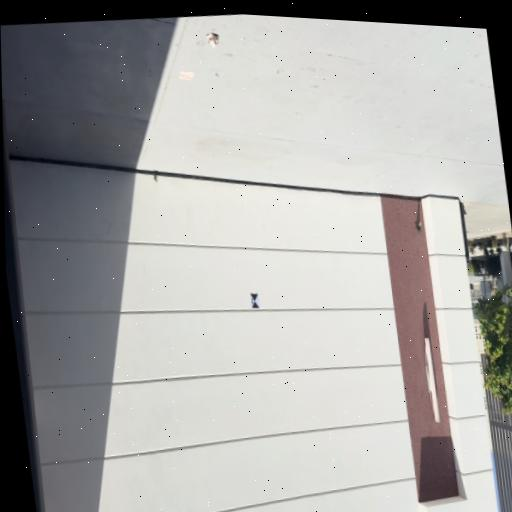target7: (250, 292, 260, 309)
